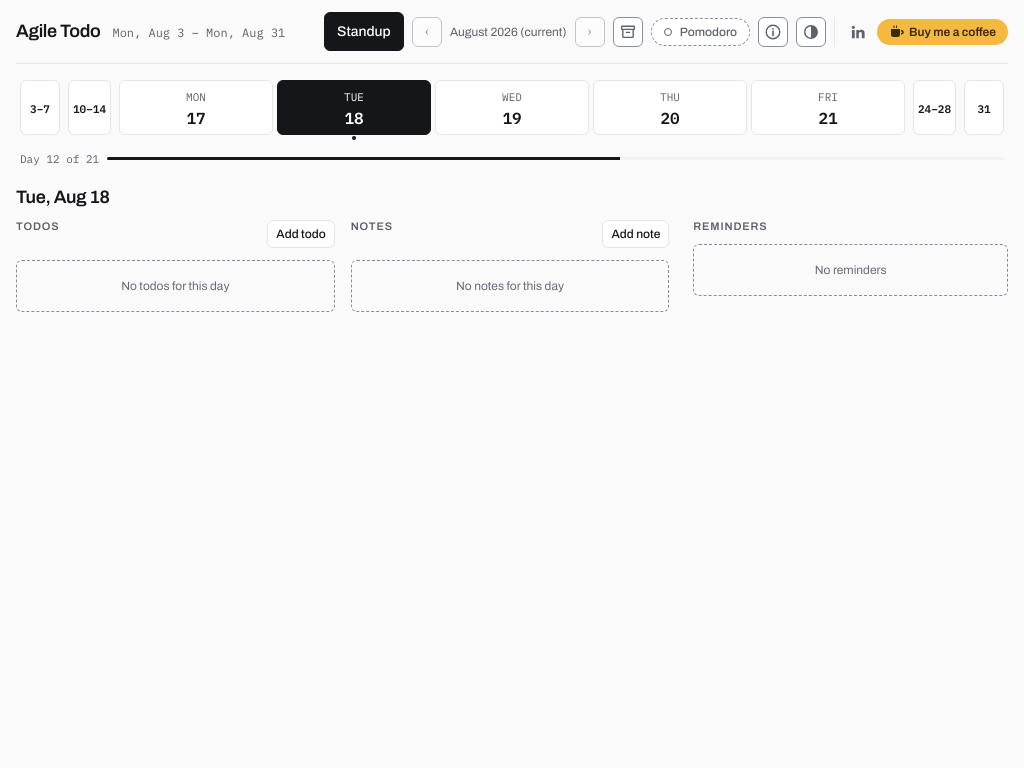
Test: App shell › cycles the theme toggle through system, light, and dark
Click the button named "Theme: system".
click(811, 32)  # box [796,16,826,46]
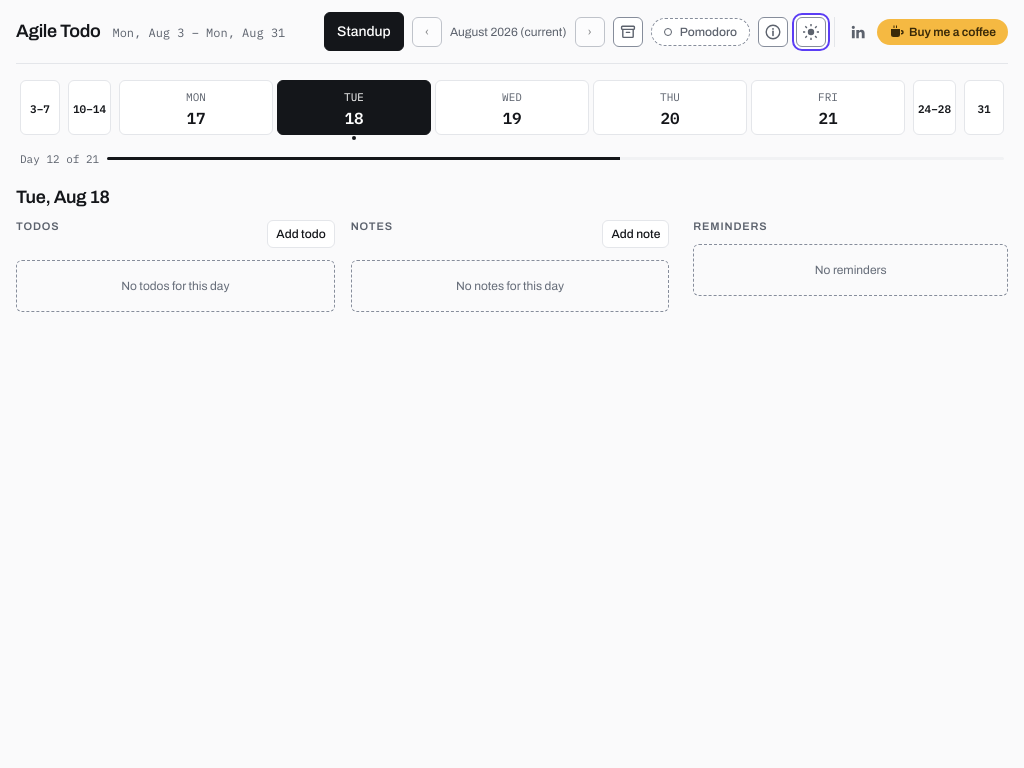
Click the button named "Theme: light".
click(811, 32)  # box [796,16,826,46]
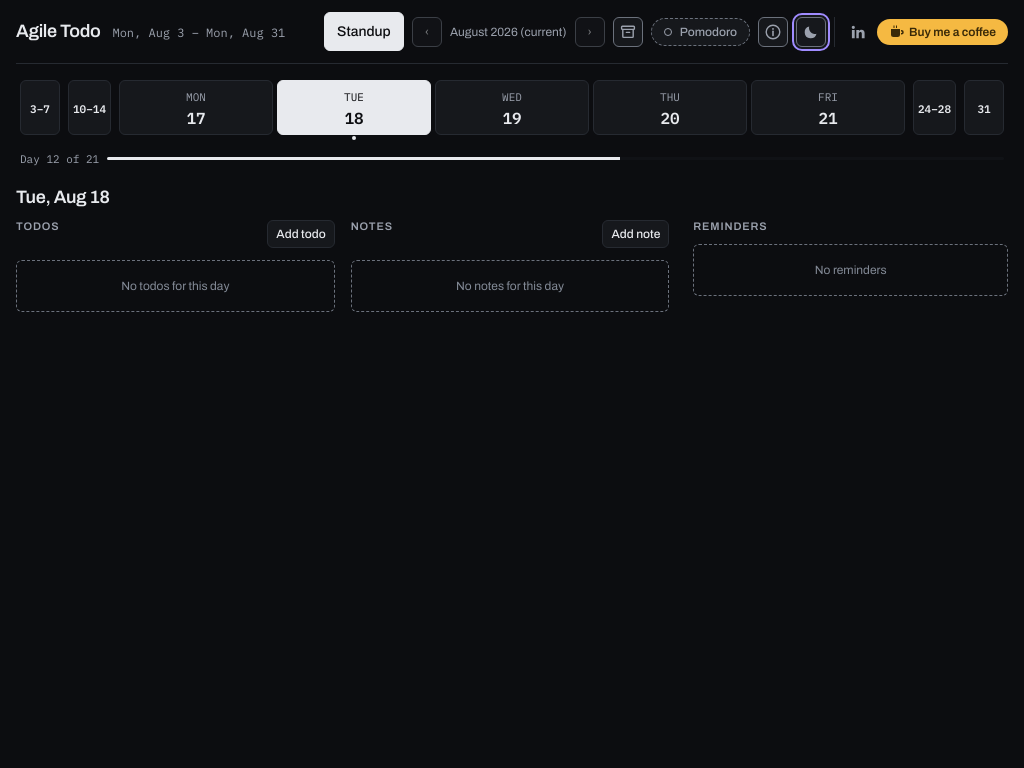
Back to system: attribute and stored key are both cleared.
Click the button named "Theme: dark".
click(811, 32)  # box [796,16,826,46]
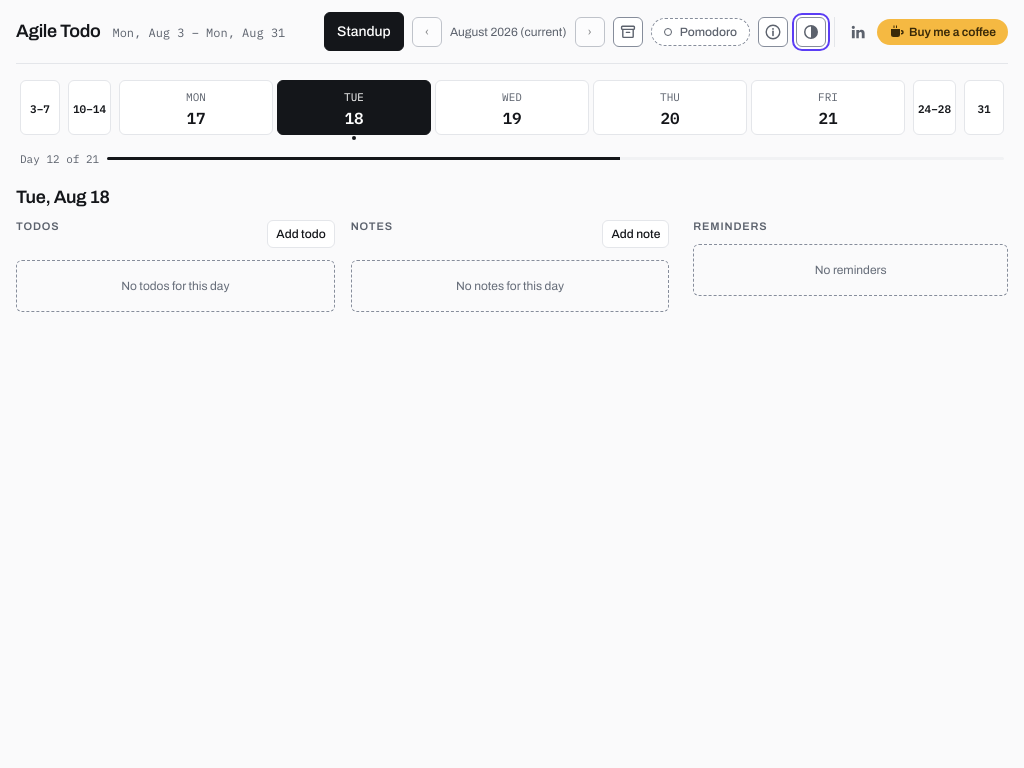
Check: the button named "Theme: system" is shown, box [796,16,826,46]
